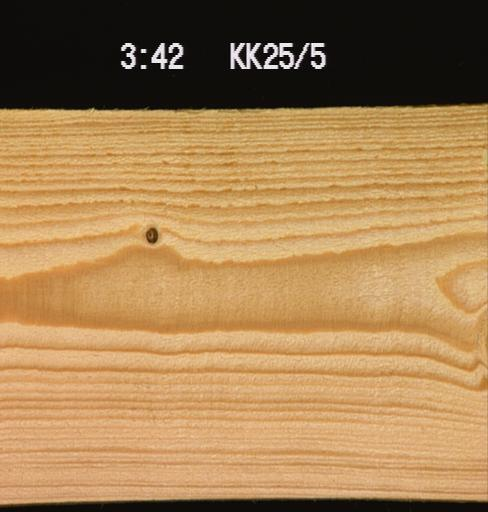dry_knot: (142, 223, 159, 244)
